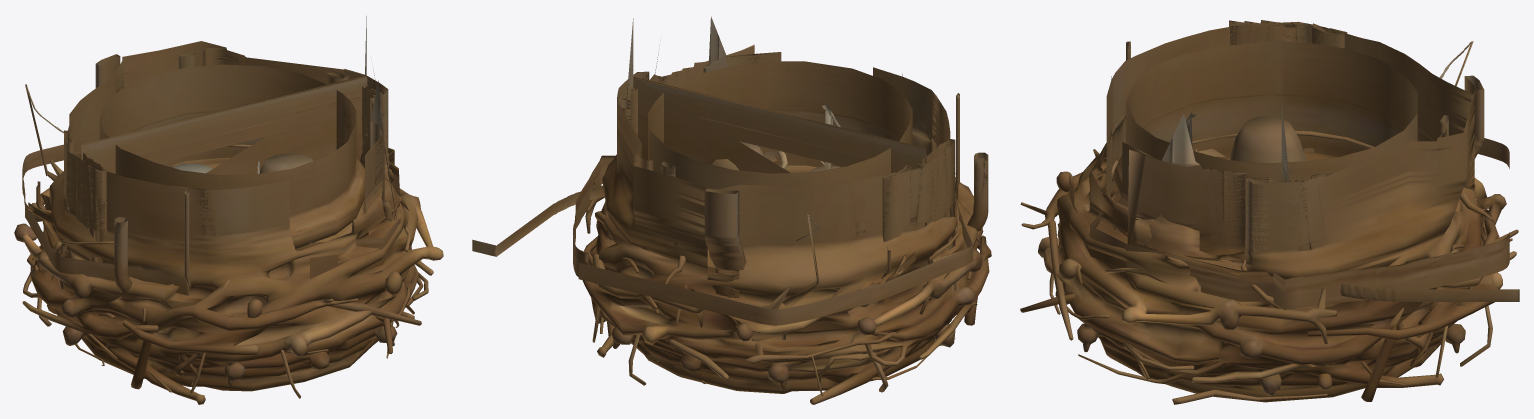
The model's file is ninho.glb.
3 renders of one model, left to right at view 1: azimuth 30°, elevation 25°; view 2: azimuth 150°, elevation 25°; view 3: azimuth 270°, elevation 25°, orthographic. The views are drawn at different scales.
Parts seen in each view (by area): view 1: tripo_node_dd62bd1c-6c54-4aa8-a0c4-224c56d433ac; view 2: tripo_node_dd62bd1c-6c54-4aa8-a0c4-224c56d433ac; view 3: tripo_node_dd62bd1c-6c54-4aa8-a0c4-224c56d433ac.
Boxes of the visible parts, left/top/right/bottom form: tripo_node_dd62bd1c-6c54-4aa8-a0c4-224c56d433ac: left=14, top=16, right=443, bottom=404; tripo_node_dd62bd1c-6c54-4aa8-a0c4-224c56d433ac: left=472, top=16, right=991, bottom=404; tripo_node_dd62bd1c-6c54-4aa8-a0c4-224c56d433ac: left=1020, top=20, right=1519, bottom=404.
Bounding box in the file's own units: 0.955 × 0.7025 × 0.998.
1 material, 1 textured.
